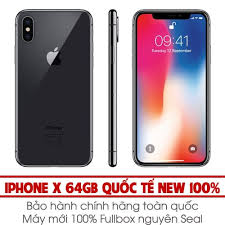iphone: (12, 6, 99, 167), (126, 5, 213, 166)
iphone10: (127, 5, 214, 166), (12, 6, 99, 167)
